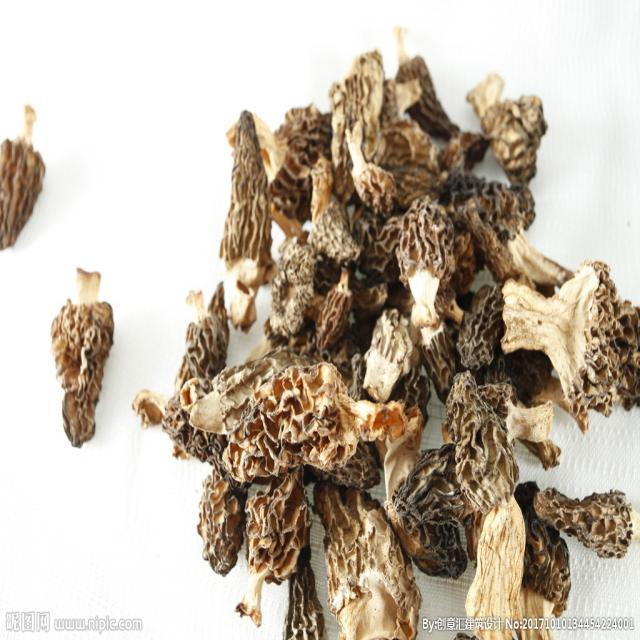Morchella esculenta: (450, 373, 525, 637), (311, 487, 419, 640), (216, 109, 273, 330), (52, 261, 114, 445), (236, 474, 308, 626), (400, 192, 456, 330), (0, 103, 44, 248)
